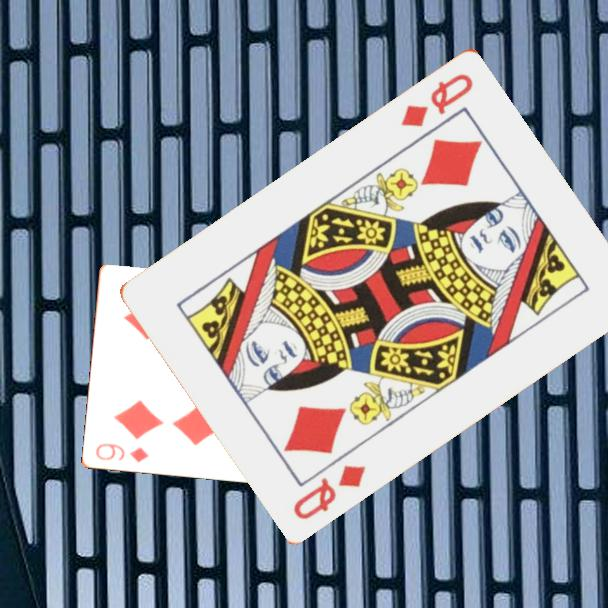d09: (92, 440, 151, 465)
d12: (289, 460, 369, 522), (397, 69, 477, 130)
